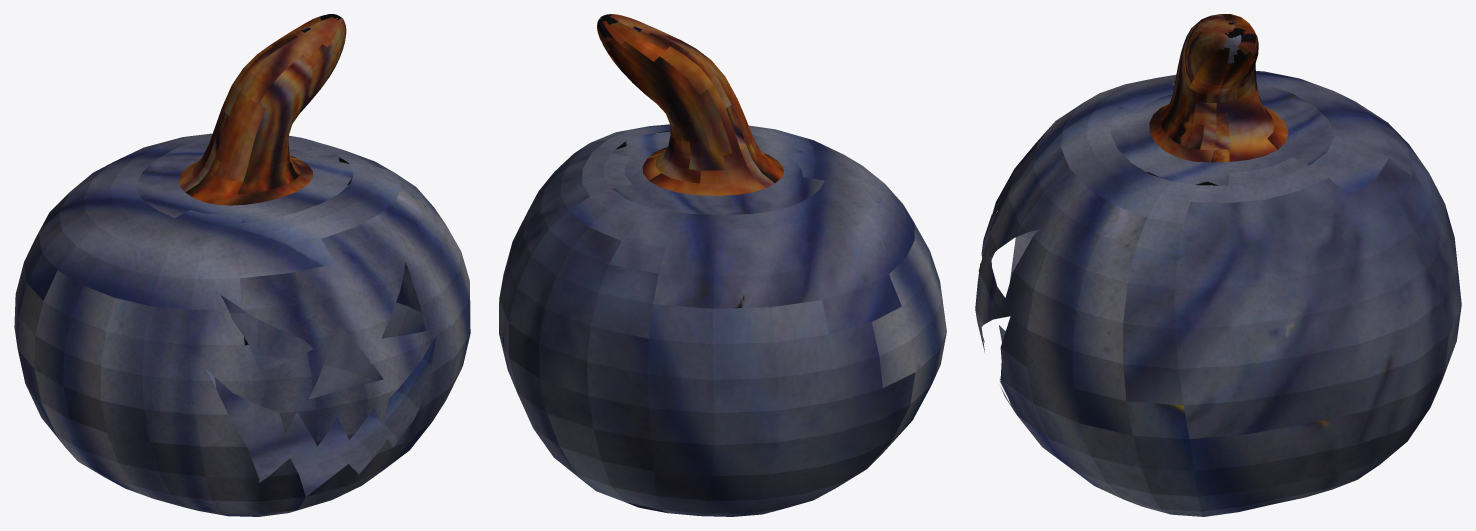
File: calabazagris low.glb
3 renders of one model, left to right at view 1: azimuth 30°, elevation 25°; view 2: azimuth 150°, elevation 25°; view 3: azimuth 270°, elevation 25°, orthographic. The views are drawn at different scales.
Visible parts, largest first — view 1: RetopoFlow; view 2: RetopoFlow; view 3: RetopoFlow.
Part boxes in pixels (x1,y1,x2,y2): RetopoFlow: (14,14,470,516); RetopoFlow: (499,14,946,516); RetopoFlow: (975,14,1461,516).
Bounding box in the file's own units: 0.9187 × 0.9599 × 0.8579.
1 material, 1 textured.
